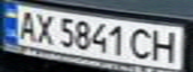1: (106, 24, 130, 56)
4: (90, 20, 109, 54)
5: (54, 16, 78, 48)
8: (72, 19, 93, 52)
A: (12, 7, 39, 42)
C: (127, 26, 157, 61)
H: (148, 27, 184, 64)
X: (30, 11, 57, 45)
